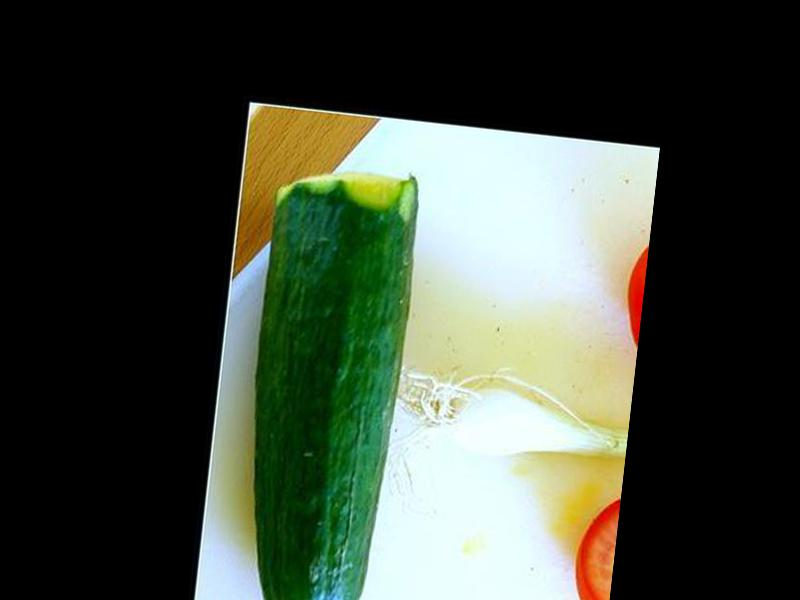Cucumber: (226, 160, 421, 600)
